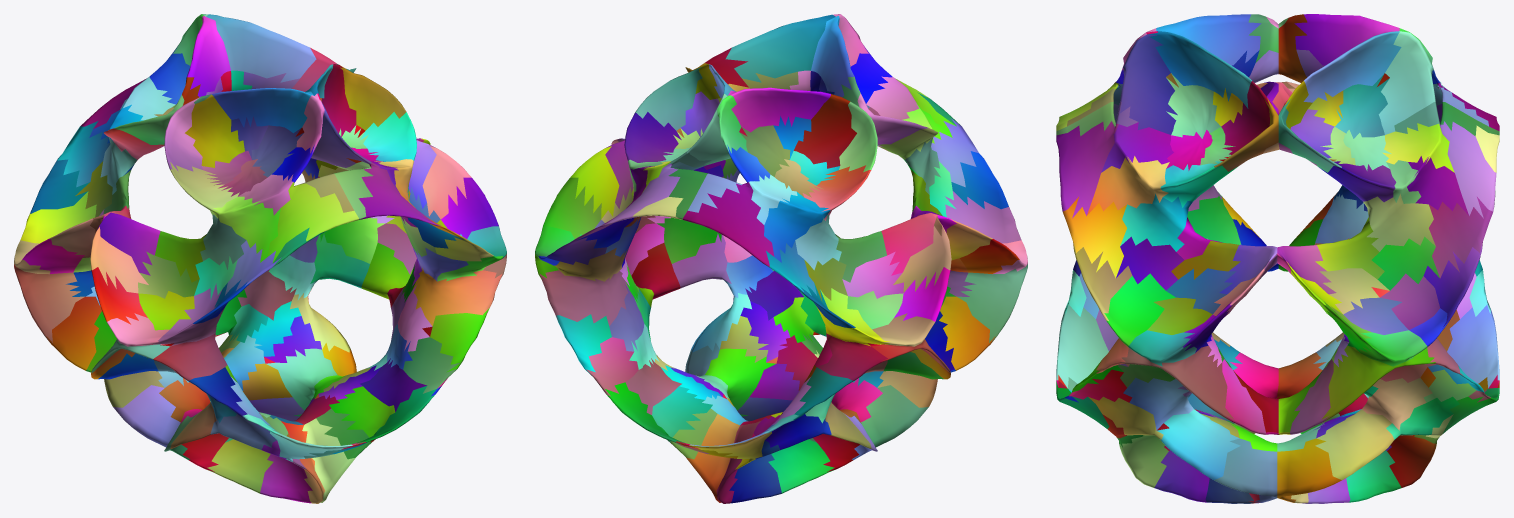
File: calabi-yau.obj
The picture shows the model from 3 angles, left to right: view 1: azimuth 30°, elevation 25°; view 2: azimuth 150°, elevation 25°; view 3: azimuth 270°, elevation 25°; orthographic projection. The views are drawn at different scales.
Visible parts, largest first — view 1: Meshy_AI_Calabi_Yau_0423132031_texture; view 2: Meshy_AI_Calabi_Yau_0423132031_texture; view 3: Meshy_AI_Calabi_Yau_0423132031_texture.
Part boxes in pixels (bbox=[...]): Meshy_AI_Calabi_Yau_0423132031_texture: bbox=[14, 14, 506, 503]; Meshy_AI_Calabi_Yau_0423132031_texture: bbox=[535, 14, 1027, 503]; Meshy_AI_Calabi_Yau_0423132031_texture: bbox=[1056, 14, 1499, 503].
Bounding box in the file's own units: 0.998 × 1 × 0.8709.
1 material, 1 textured.
